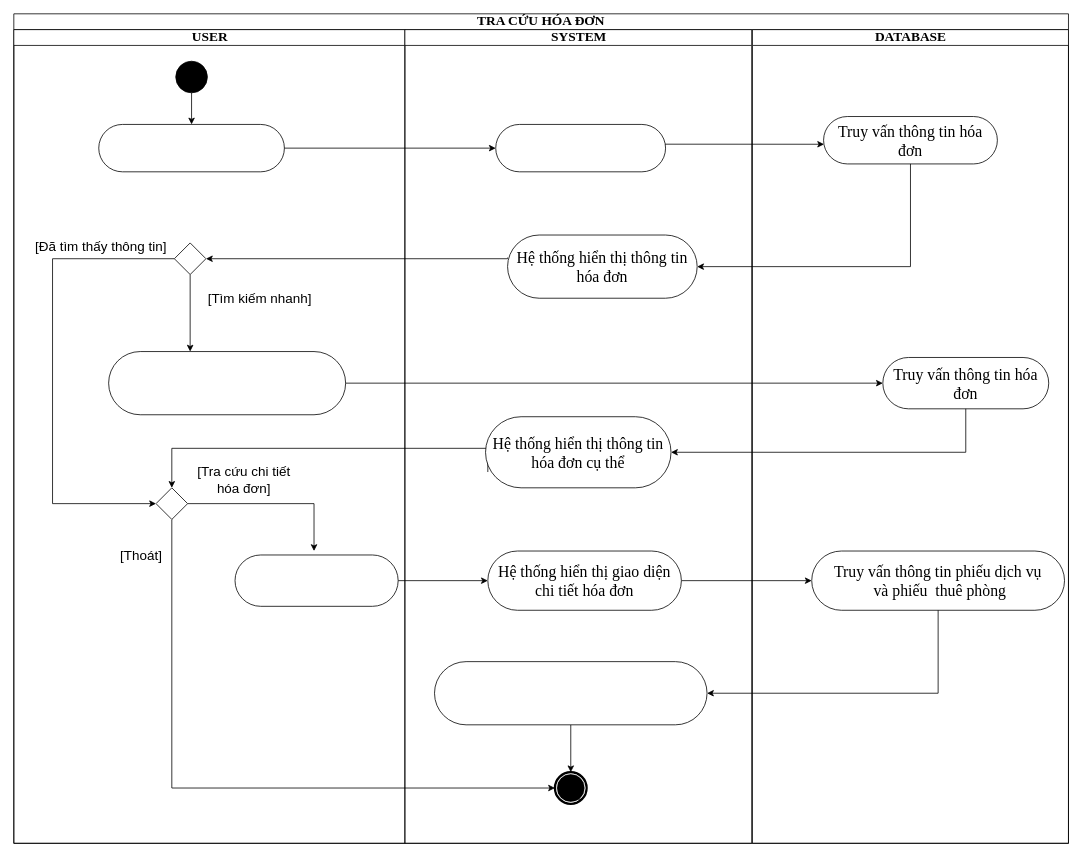
The diagram is 1082 pixels wide and 857 high, and some of its shapes have lost their labels. The shapes that lost their labels are listed below. From the top down, each one's centre as x and y in pixels, then its label:
the point at 191,148: Người dùng chọn chức năng quản lý hóa đơn
the point at 580,148: Hệ thống hiển thị giao diện quản lý hóa đơn
the point at 227,383: Người dùng nhập số điện thoại khách hàng và nhấn nút tìm kiếm
the point at 316,580: Người dùng chọn nút chi tiết hóa đơn
the point at 570,693: Hệ thống hiển thị thông tin phiếu thuê phòng và phiếu dịch vụ
